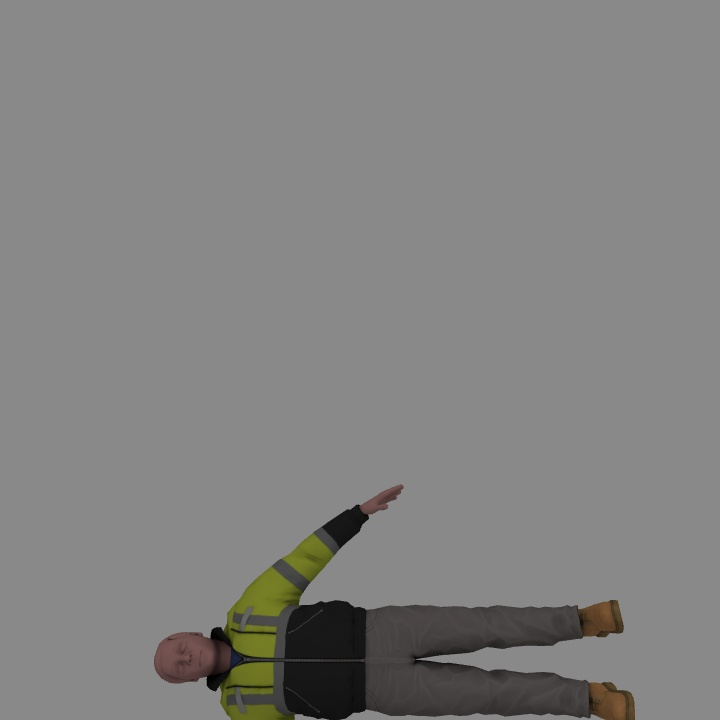victim: (155, 487, 637, 719)
